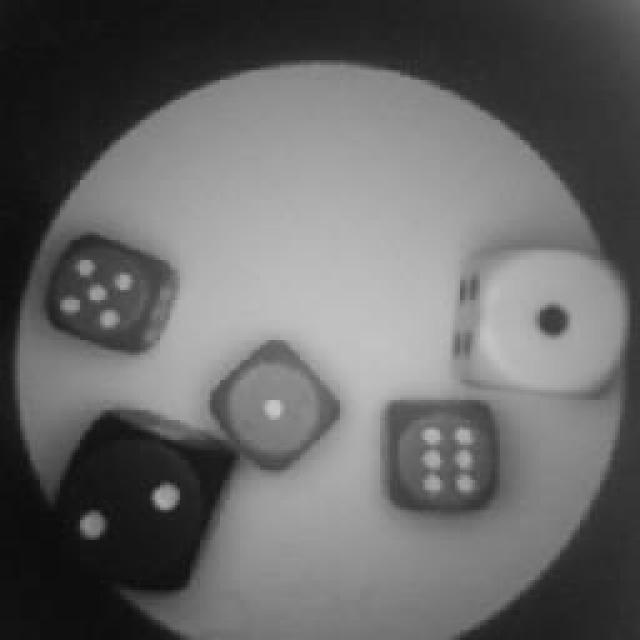dice_1: (458, 238, 632, 398), (208, 340, 338, 472)
dice_2: (48, 412, 228, 598)
dice_5: (50, 240, 168, 358)
dice_6: (377, 398, 505, 518)
